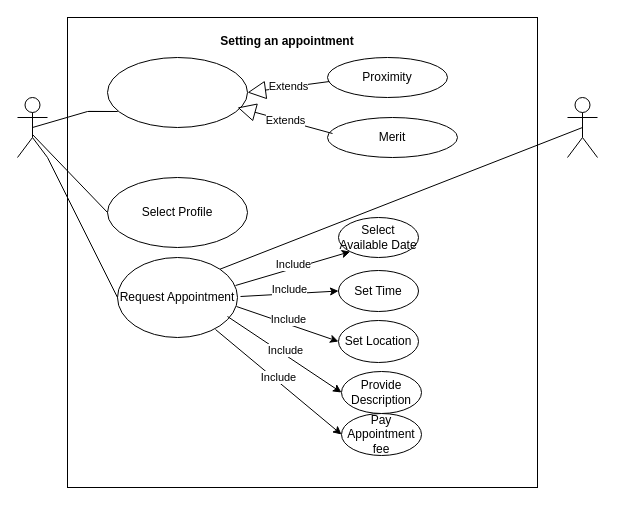
This 639x505 diagram has some shape labels left out. Each missing label, with the centre of its shape:
"Client" goes at pixel 32 127.
"Search for Tradesperson" goes at pixel 177 92.
"Trades Person" goes at pixel 582 127.
